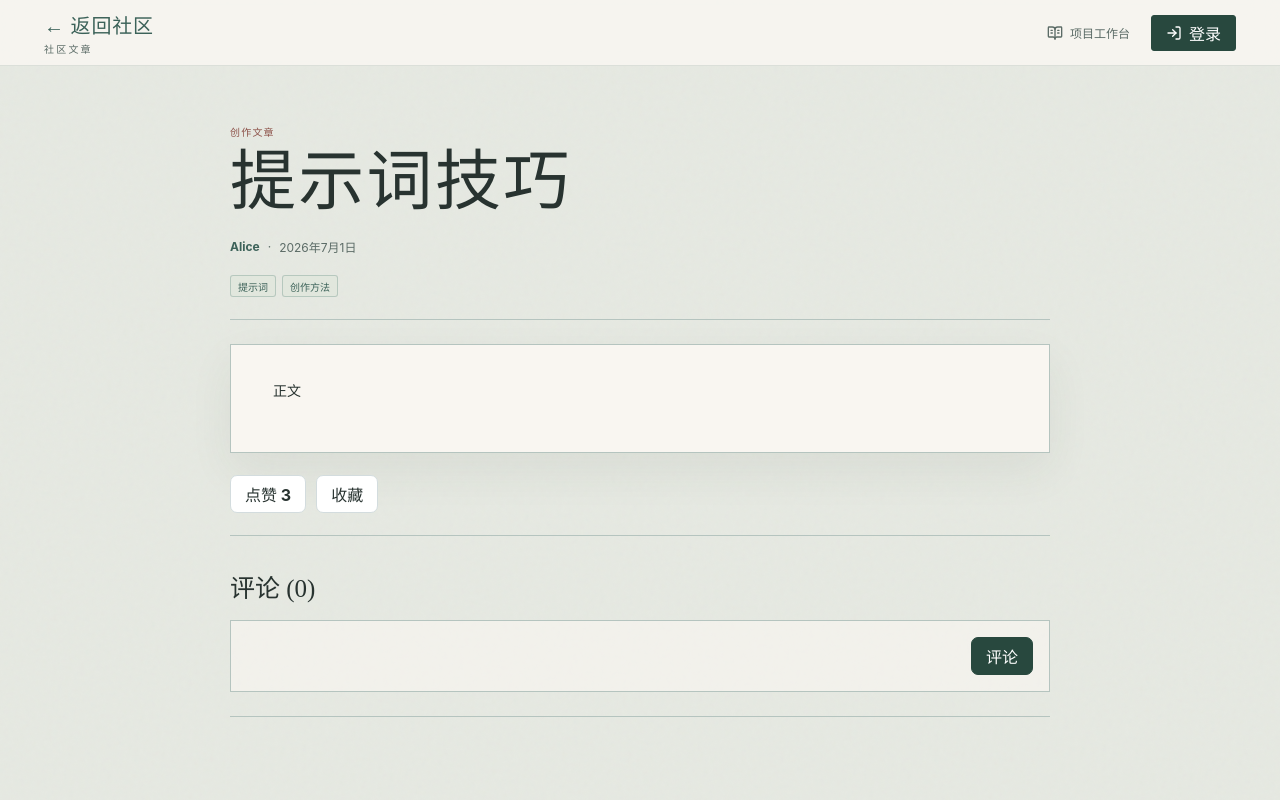
Test: ArticleDetailPage › opens login reminders for anonymous article interactions
Click the button "点赞 3" at (268, 494), box 230,474 -> 306,512
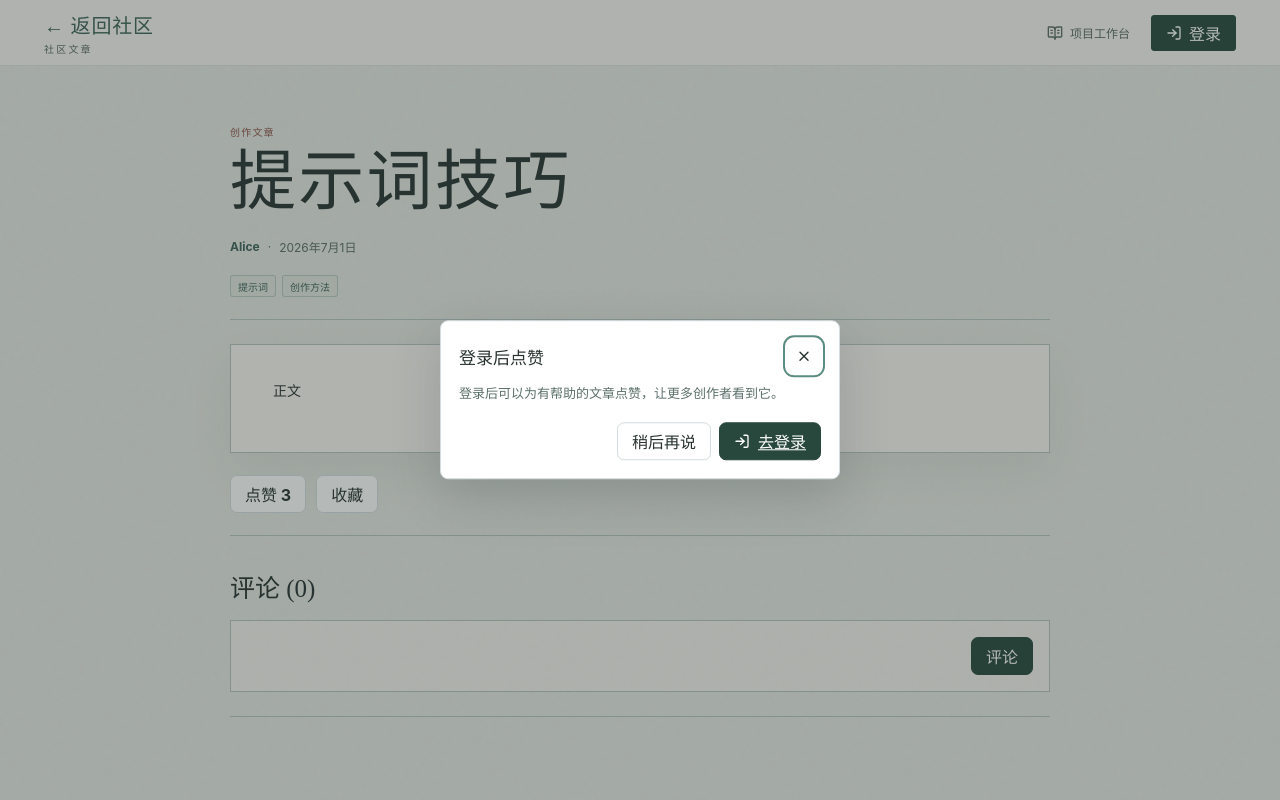
expect the dialog "登录后点赞" is shown: met, box 440,320 -> 840,480
Press Escape
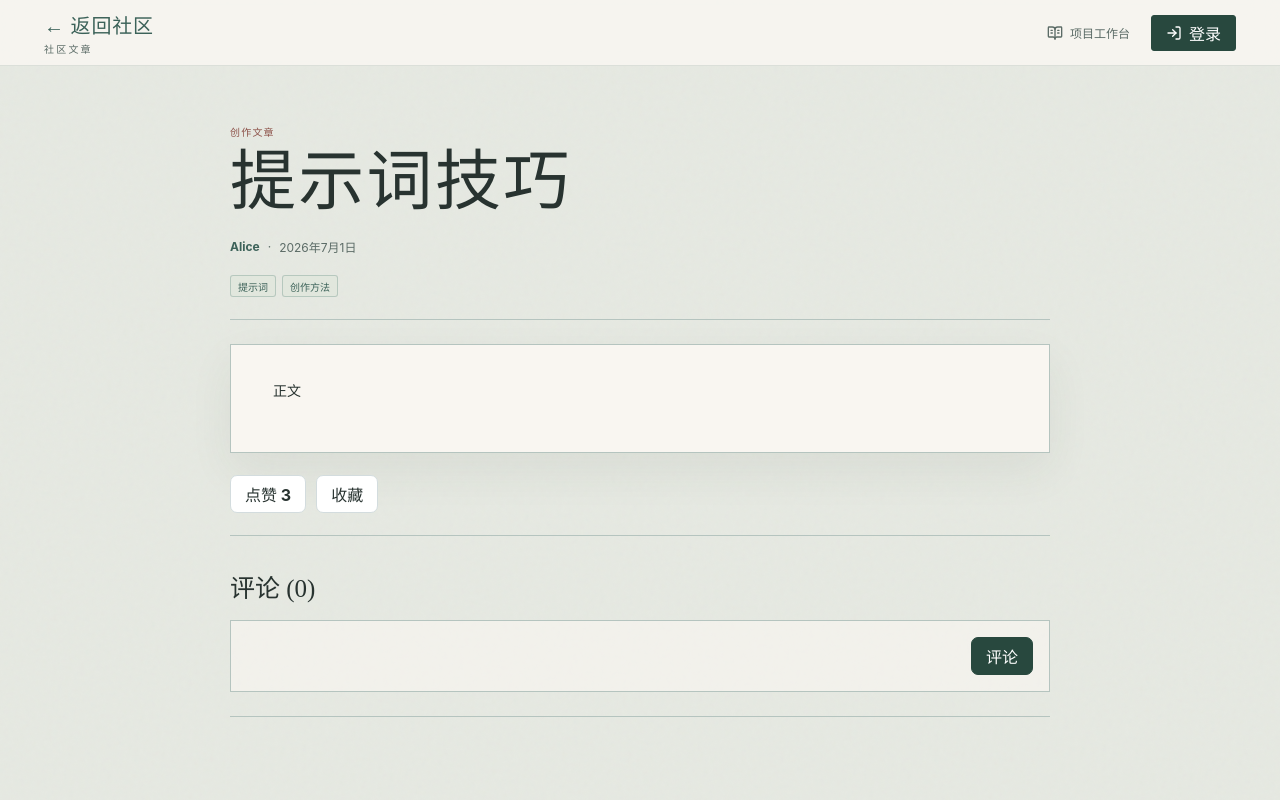
Click the button "收藏" at (347, 494), box 316,474 -> 378,512
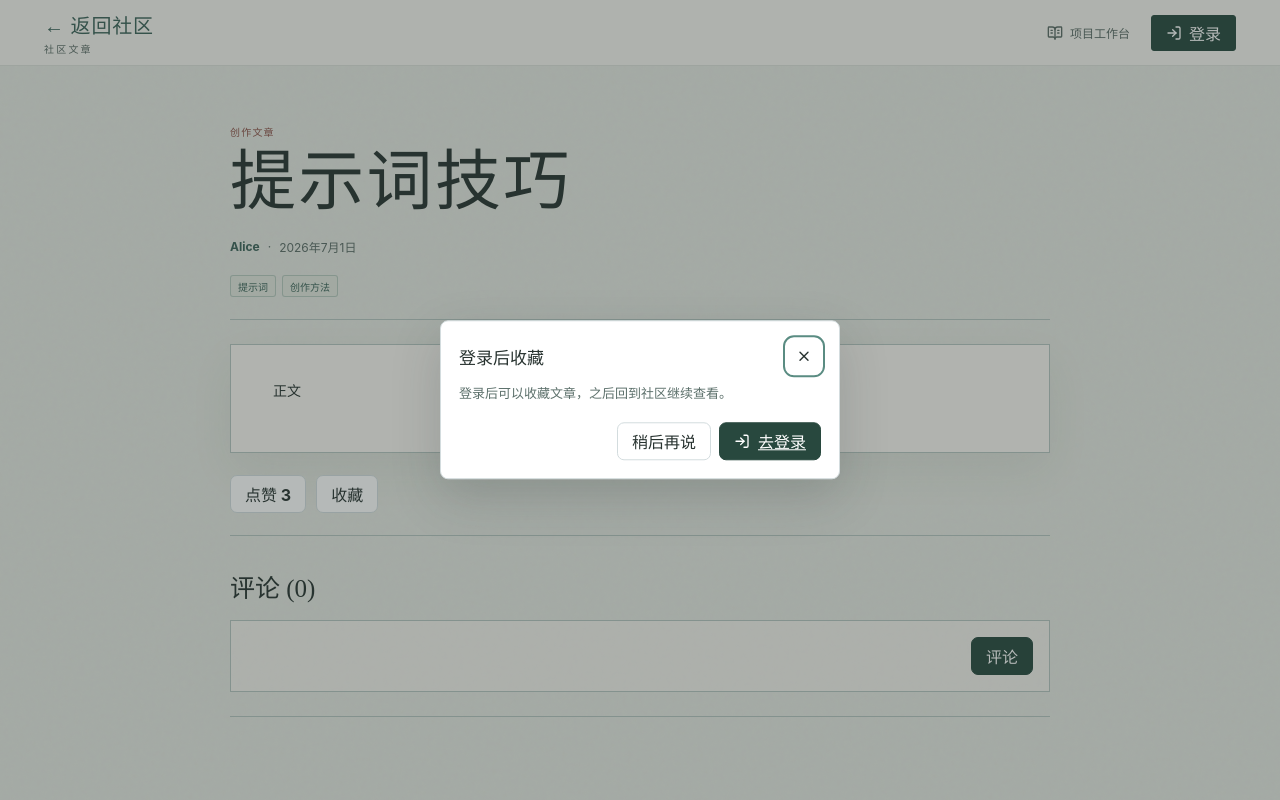
expect the dialog "登录后收藏" is shown: met, box 440,320 -> 840,480
Press Escape
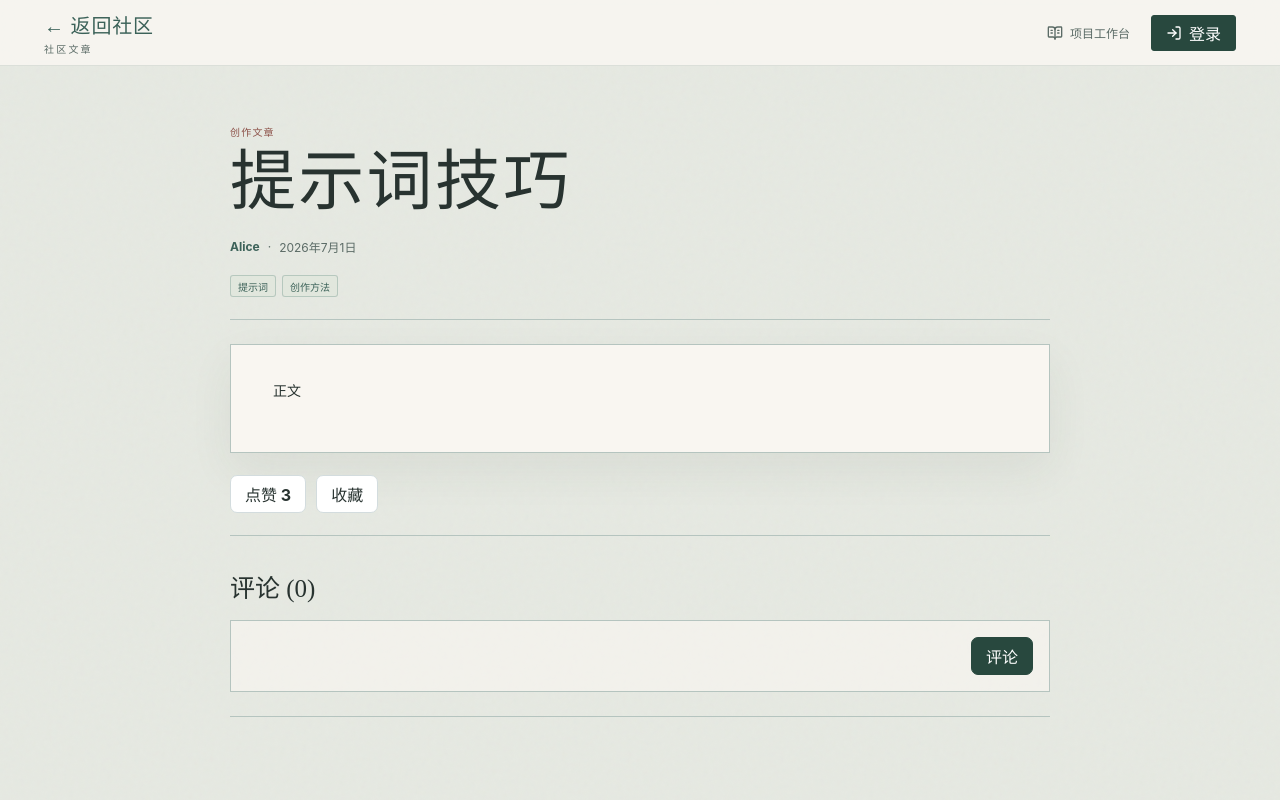
Click the button "评论" at (1002, 656), box 971,636 -> 1033,674
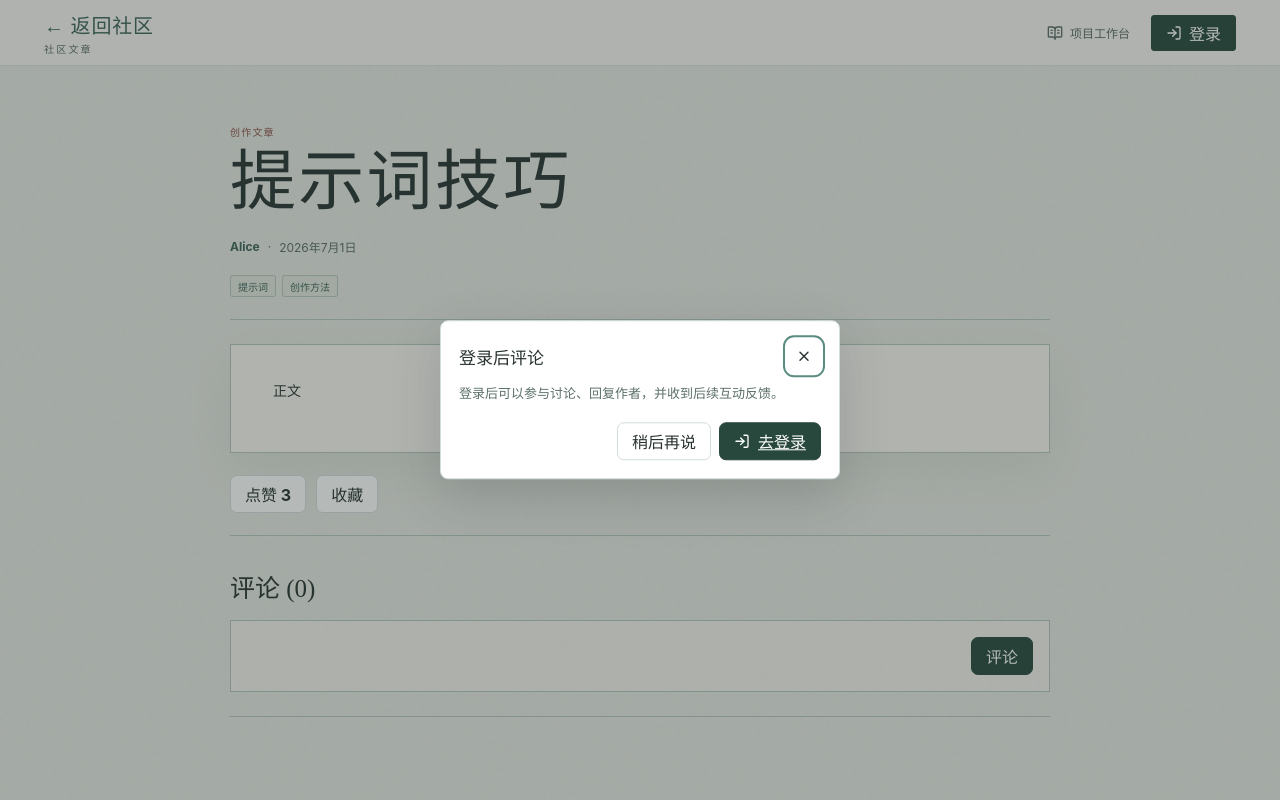
expect the dialog "登录后评论" is shown: met, box 440,320 -> 840,480
